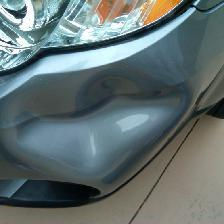bumper_dent: (5, 45, 198, 199)
